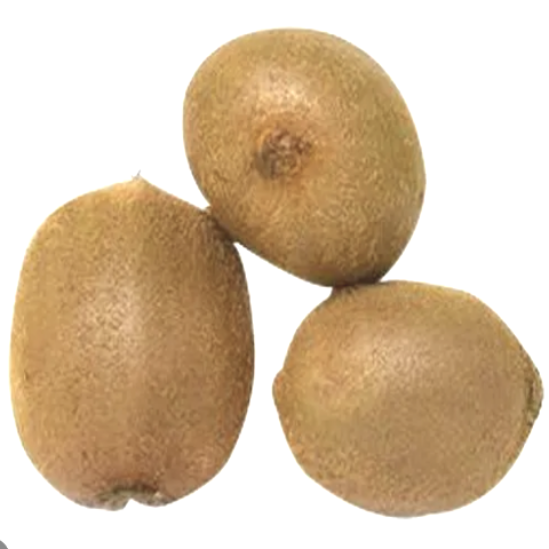kiwi: (0, 151, 267, 543), (163, 5, 453, 311), (257, 281, 543, 549)
